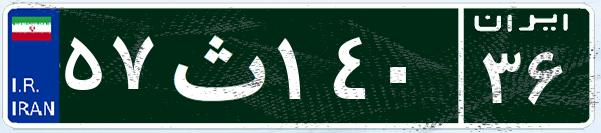0: (385, 28, 445, 110)
1: (273, 28, 330, 110)
3: (475, 38, 525, 113)
4: (330, 28, 385, 110)
5: (57, 26, 110, 107)
6: (525, 38, 570, 115)
7: (110, 28, 158, 105)
ث: (158, 15, 273, 115)
